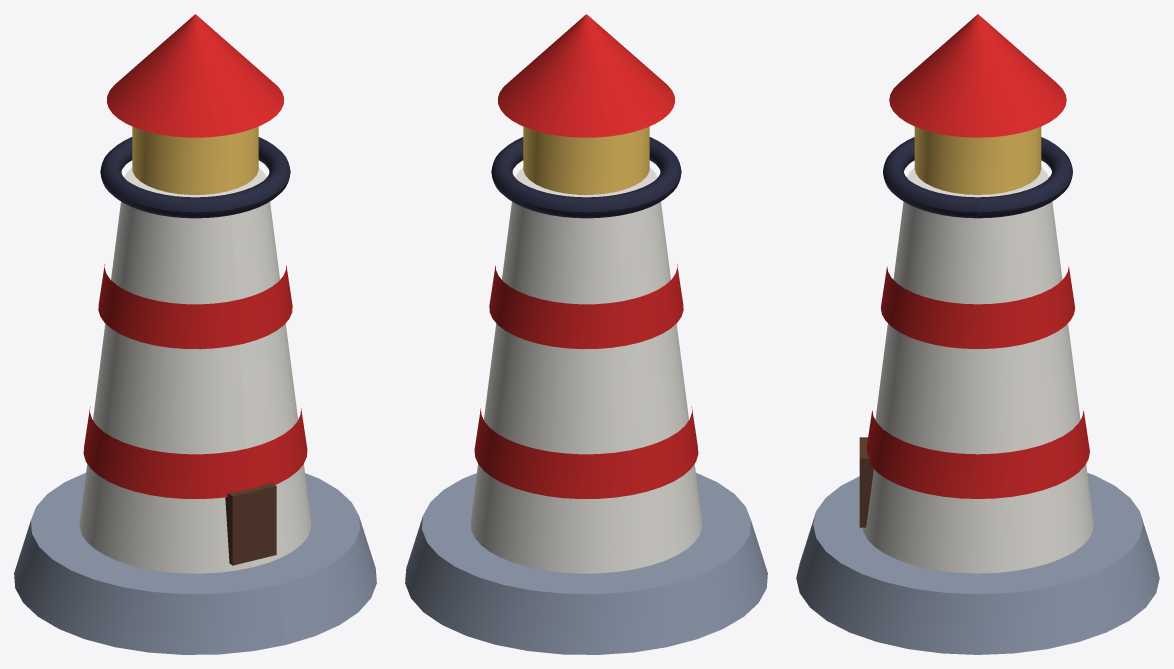
The model's file is lighthouse.glb.
The picture shows the model from 3 angles, left to right: view 1: azimuth 30°, elevation 25°; view 2: azimuth 150°, elevation 25°; view 3: azimuth 270°, elevation 25°; orthographic projection.
Parts seen in each view (by area): view 1: tower, base, cap, stripe_2, stripe_1, lamp, gallery, door; view 2: tower, base, cap, stripe_2, stripe_1, lamp, gallery; view 3: tower, base, cap, stripe_2, stripe_1, lamp, gallery, door.
Boxes of the visible parts, x1,y1,x2,y2 form: tower: [79, 167, 311, 573]; base: [14, 473, 376, 654]; cap: [107, 14, 283, 137]; stripe_2: [83, 406, 307, 498]; stripe_1: [98, 264, 292, 349]; lamp: [132, 126, 258, 194]; gallery: [100, 137, 290, 218]; door: [225, 482, 276, 565]; tower: [470, 167, 702, 573]; base: [405, 473, 767, 654]; cap: [498, 14, 674, 137]; stripe_2: [474, 406, 698, 498]; stripe_1: [489, 264, 683, 349]; lamp: [523, 126, 649, 194]; gallery: [491, 137, 681, 218]; tower: [862, 167, 1093, 573]; base: [796, 473, 1159, 654]; cap: [889, 14, 1066, 137]; stripe_2: [866, 410, 1089, 498]; stripe_1: [881, 266, 1074, 348]; lamp: [914, 127, 1041, 194]; gallery: [883, 137, 1072, 218]; door: [859, 437, 873, 527].
Bounding box in the file's own units: 1.72 × 2.95 × 1.72.
